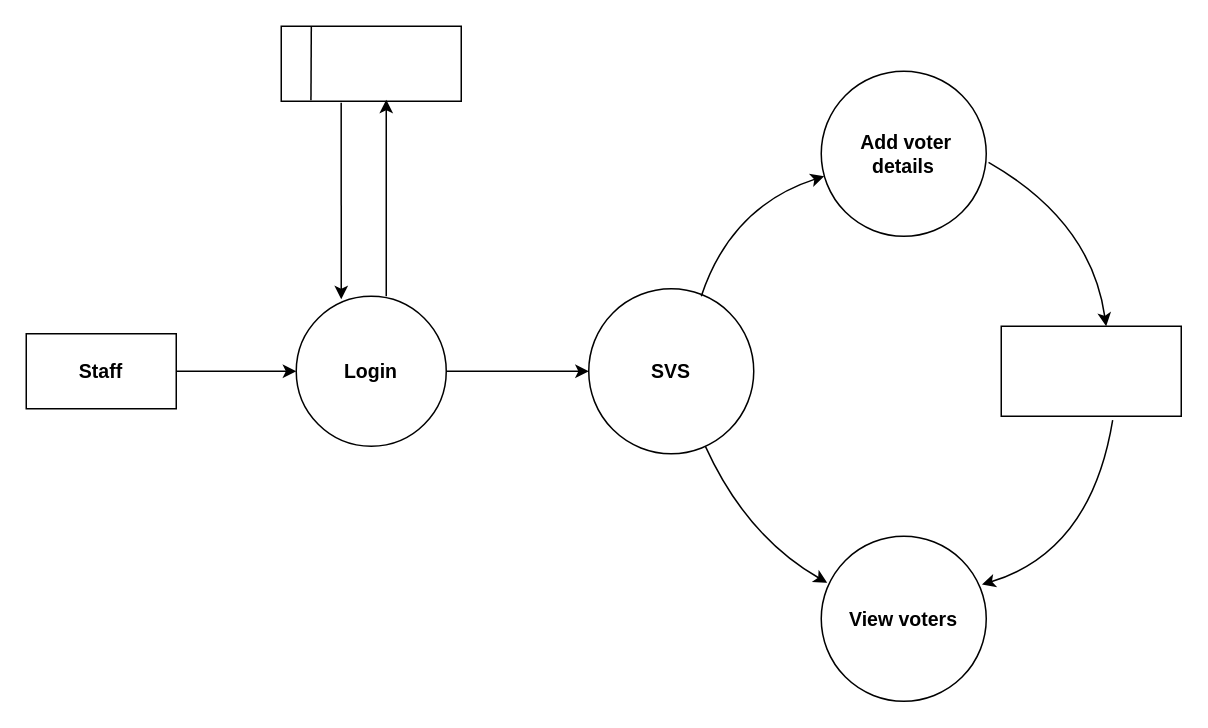
This 1208x728 diagram has some shape labels left out. Here are the shapes that lost their labels. From the top down, the centre of each, then its label:
At (370,63): "Login details".
At (1090,370): "Voter details".
